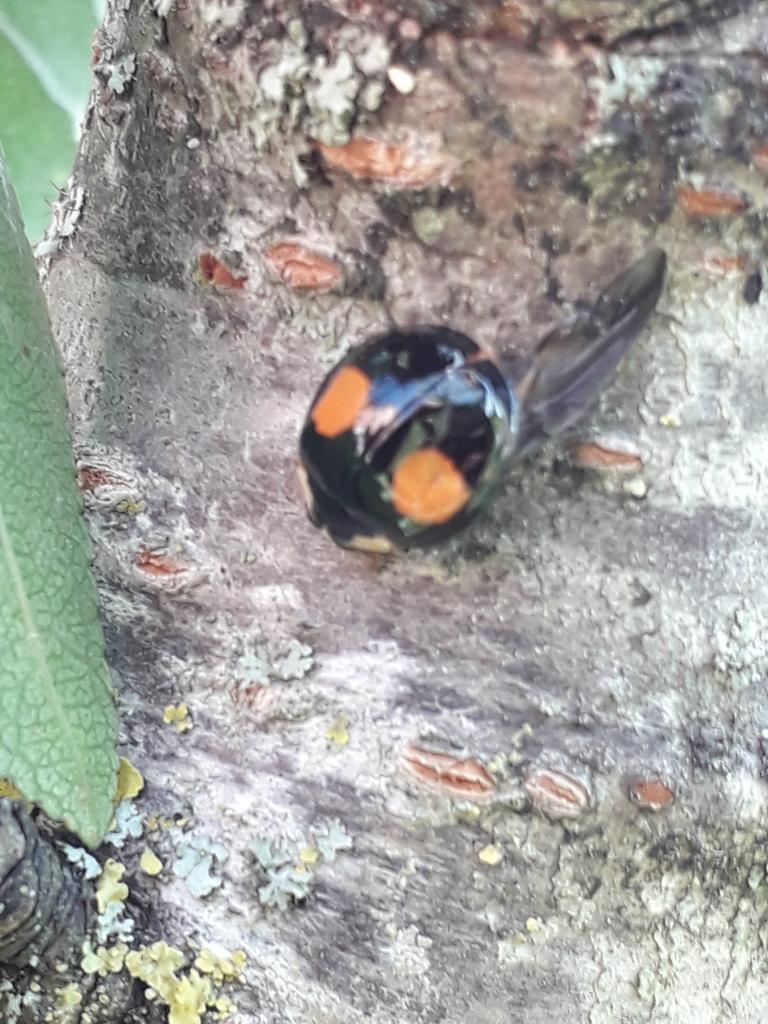ladybug: (296, 321, 521, 559)
